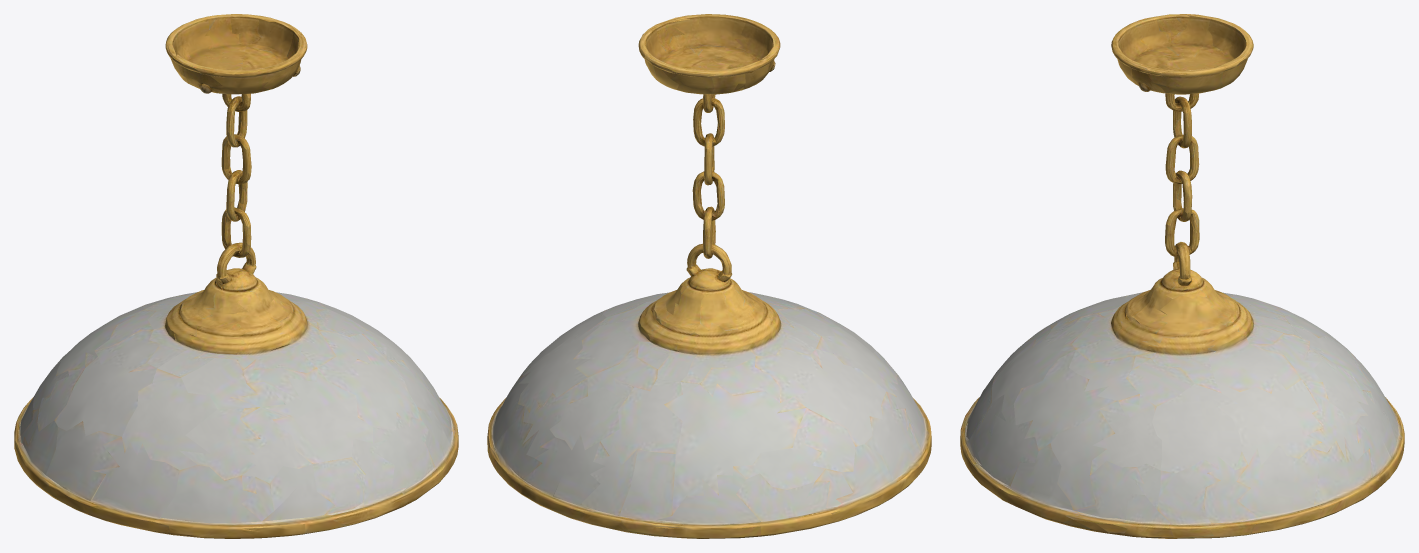
The model's file is w5pendant.glb.
The picture shows the model from 3 angles, left to right: view 1: azimuth 30°, elevation 25°; view 2: azimuth 150°, elevation 25°; view 3: azimuth 270°, elevation 25°; orthographic projection.
Visible parts, largest first — view 1: output_unwrapped; view 2: output_unwrapped; view 3: output_unwrapped.
Boxes of the visible parts, x1=… form: output_unwrapped: x1=14, y1=14, x2=458, y2=538; output_unwrapped: x1=487, y1=14, x2=931, y2=538; output_unwrapped: x1=960, y1=14, x2=1404, y2=538.
Bounding box in the file's own units: 0.45 × 0.4499 × 0.4496.
1 material, 1 textured.
